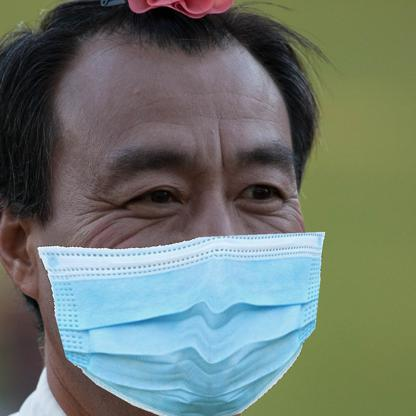mask: (36, 228, 324, 416)
